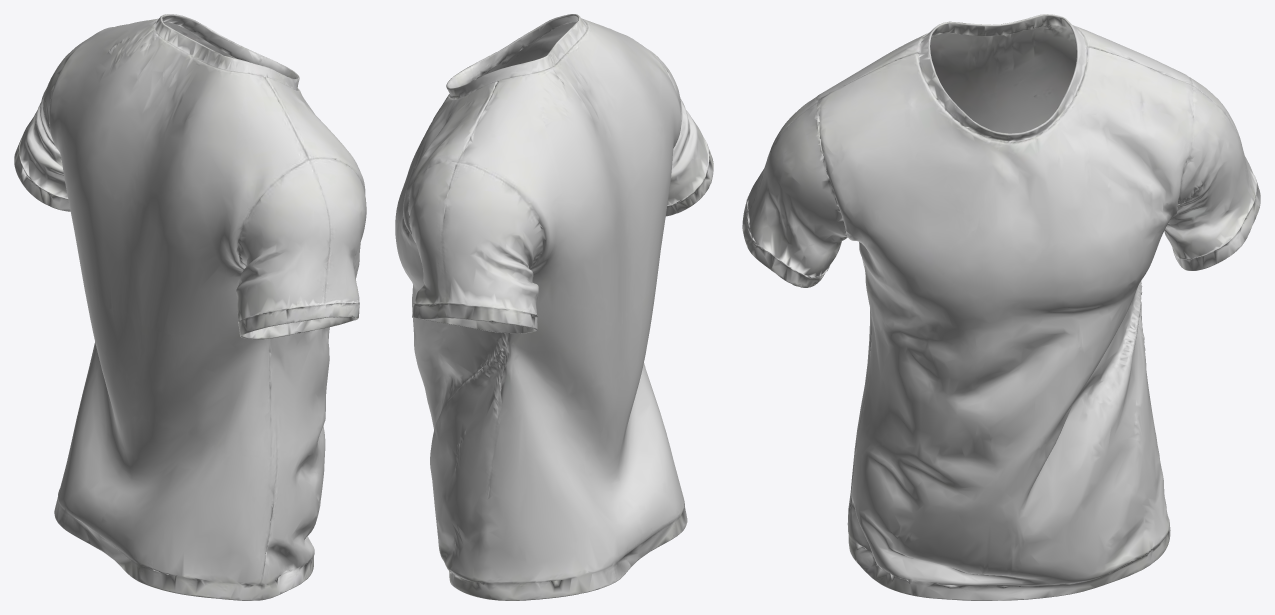
File: camiseta.glb
The picture shows the model from 3 angles, left to right: view 1: azimuth 30°, elevation 25°; view 2: azimuth 150°, elevation 25°; view 3: azimuth 270°, elevation 25°; orthographic projection. The views are drawn at different scales.
Parts seen in each view (by area): view 1: tripo_node_f98a4c82-4186-49c6-ad43-6dfd6bd54a35; view 2: tripo_node_f98a4c82-4186-49c6-ad43-6dfd6bd54a35; view 3: tripo_node_f98a4c82-4186-49c6-ad43-6dfd6bd54a35.
Boxes of the visible parts, left/top/right/bottom form: tripo_node_f98a4c82-4186-49c6-ad43-6dfd6bd54a35: left=14, top=14, right=366, bottom=600; tripo_node_f98a4c82-4186-49c6-ad43-6dfd6bd54a35: left=395, top=14, right=713, bottom=600; tripo_node_f98a4c82-4186-49c6-ad43-6dfd6bd54a35: left=742, top=14, right=1260, bottom=600.
Bounding box in the file's own units: 0.4561 × 0.9792 × 0.8514.
Materials: 1 (1 with a texture image).
